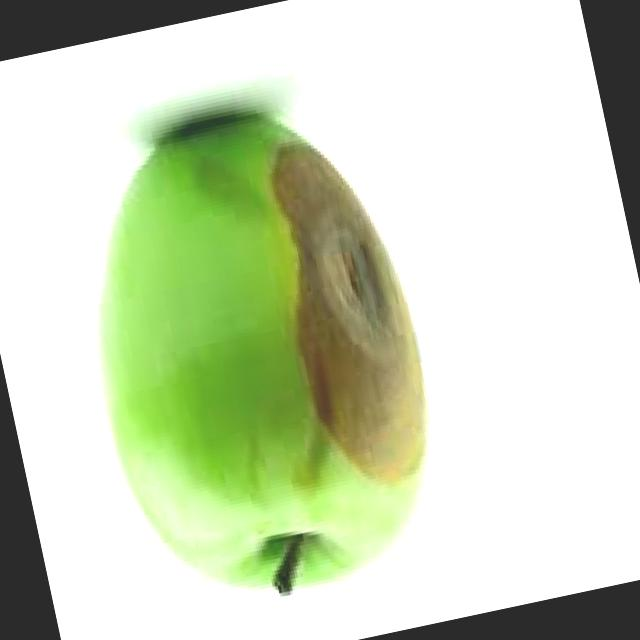Rotten Apple: (51, 85, 468, 622)
